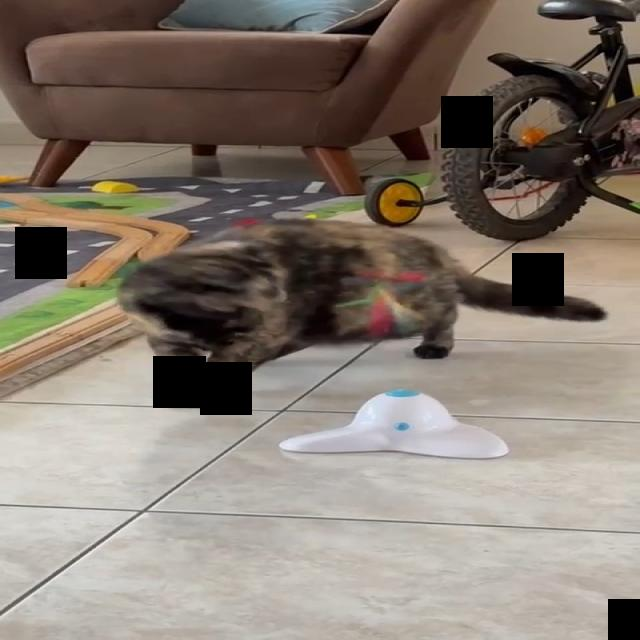authorized: (114, 217, 606, 400)
